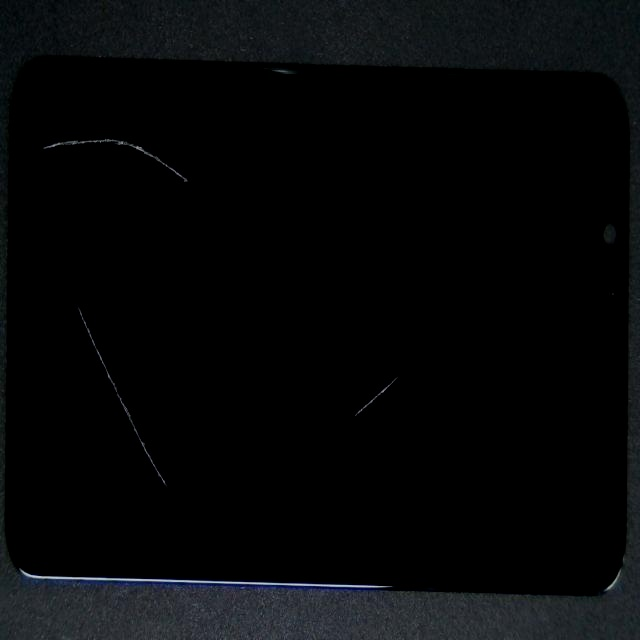scratch: (206, 198, 612, 549), (82, 106, 301, 266), (148, 361, 223, 640)
